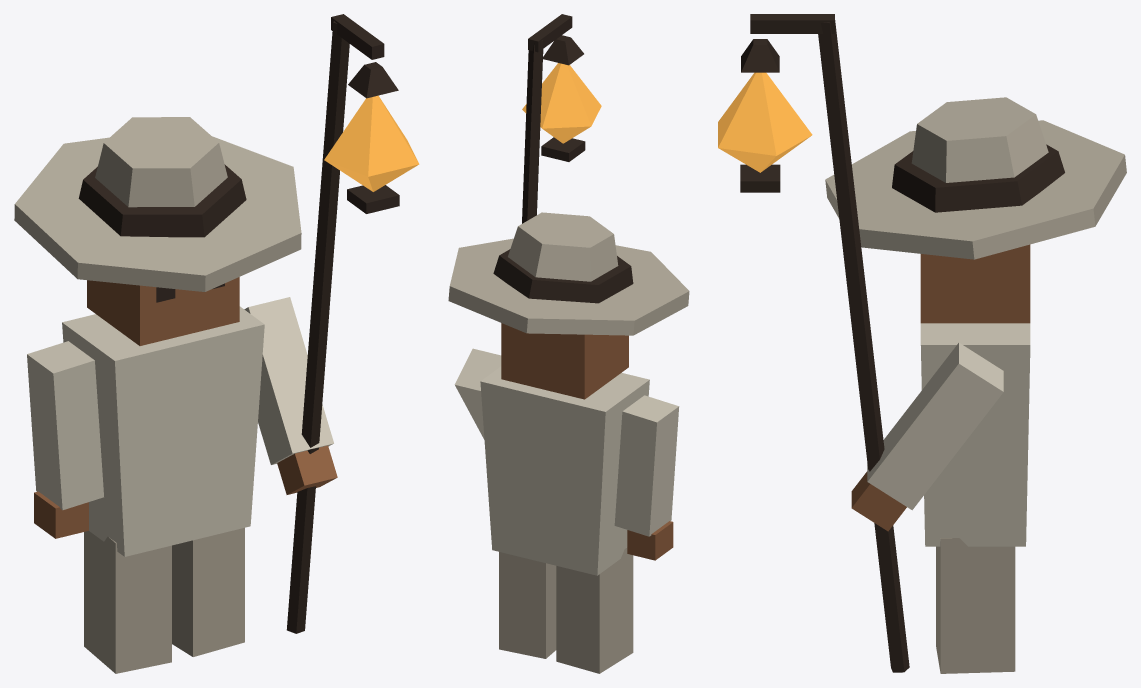
The model's file is lanterneiro.glb.
3 renders of one model, left to right at view 1: azimuth 30°, elevation 25°; view 2: azimuth 150°, elevation 25°; view 3: azimuth 270°, elevation 25°, orthographic. The views are drawn at different scales.
Parts seen in each view (by area): view 1: cabeca, corpo, lampiao, braco_e, perna_e, braco_d, perna_d, chama; view 2: cabeca, corpo, braco_e, perna_e, perna_d, lampiao, chama, braco_d; view 3: cabeca, corpo, lampiao, braco_d, perna_d, chama.
Part boxes in pixels (bbox=[...]): cabeca: bbox=[14, 117, 301, 345]; corpo: bbox=[62, 306, 264, 556]; lampiao: bbox=[286, 14, 399, 633]; braco_e: bbox=[27, 341, 103, 538]; perna_e: bbox=[84, 531, 171, 673]; braco_d: bbox=[244, 297, 337, 494]; perna_d: bbox=[172, 527, 244, 656]; chama: bbox=[324, 95, 419, 191]; cabeca: bbox=[448, 212, 689, 399]; corpo: bbox=[480, 366, 649, 575]; braco_e: bbox=[614, 395, 679, 560]; perna_e: bbox=[556, 547, 633, 673]; perna_d: bbox=[499, 552, 556, 658]; lampiao: bbox=[522, 14, 585, 223]; chama: bbox=[522, 63, 601, 143]; braco_d: bbox=[454, 348, 501, 439]; cabeca: bbox=[825, 97, 1126, 323]; corpo: bbox=[920, 323, 1030, 546]; lampiao: bbox=[740, 14, 909, 672]; braco_d: bbox=[851, 343, 1003, 531]; perna_d: bbox=[936, 538, 1015, 673]; chama: bbox=[718, 72, 812, 172].
Size of the model in its own units: 0.6509 by 1.5 by 0.8206.
